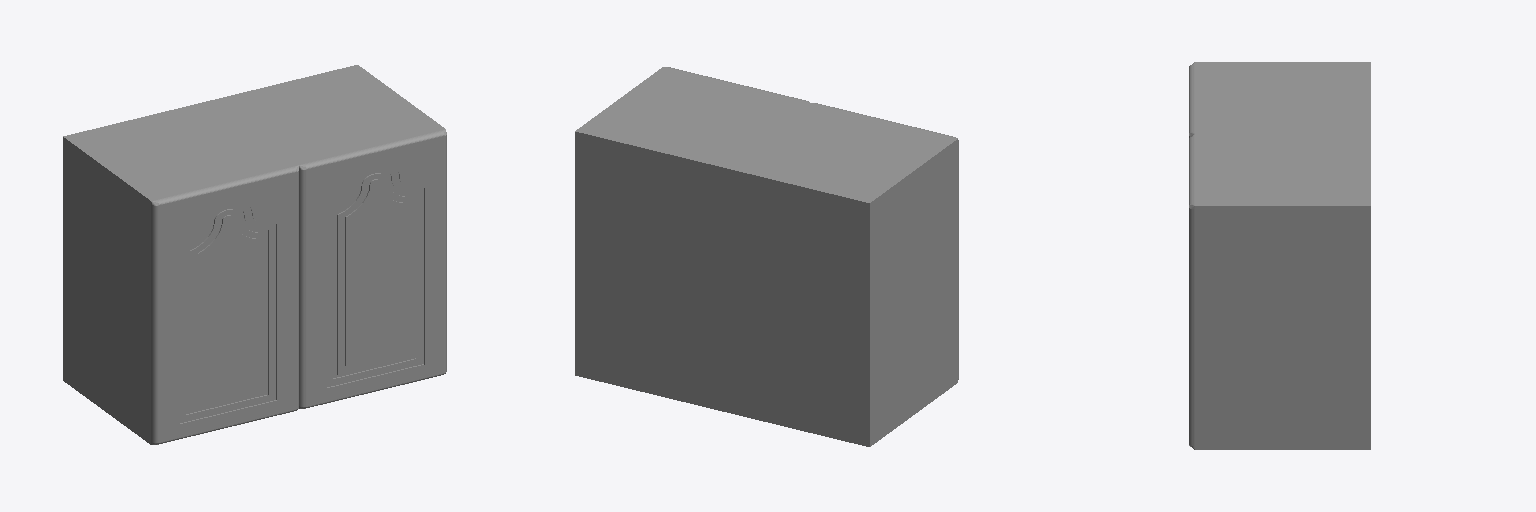
Rendered from double-base-unit-1100.obj.
The picture shows the model from 3 angles: view 1: azimuth 30°, elevation 25°; view 2: azimuth 150°, elevation 25°; view 3: azimuth 270°, elevation 25°; orthographic projection.
Visible parts, largest first — view 1: Cube.003_Cube.008, Cube.004_Cube.000, Cube_Cube.002, Cube.002_Cube.004; view 2: Cube_Cube.002, Cube.002_Cube.004, Cube.001_Cube.003; view 3: Cube.001_Cube.003, Cube_Cube.002, Cube.004_Cube.000.
Part boxes in pixels (bbox=[...]): Cube.003_Cube.008: bbox=[151, 165, 298, 444]; Cube.004_Cube.000: bbox=[299, 129, 446, 408]; Cube_Cube.002: bbox=[67, 66, 440, 199]; Cube.002_Cube.004: bbox=[63, 136, 153, 444]; Cube_Cube.002: bbox=[579, 68, 952, 445]; Cube.002_Cube.004: bbox=[866, 138, 957, 446]; Cube.001_Cube.003: bbox=[575, 67, 665, 375]; Cube.001_Cube.003: bbox=[1195, 204, 1370, 449]; Cube_Cube.002: bbox=[1195, 64, 1370, 203]; Cube.004_Cube.000: bbox=[1189, 134, 1194, 449].
Bounding box in the file's own units: 220 × 174 × 118.